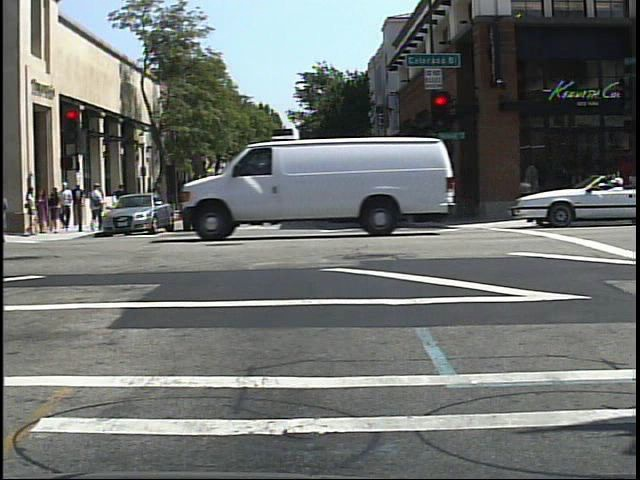person: (85, 180, 105, 232)
